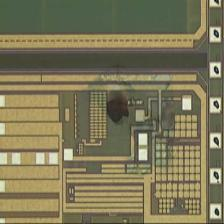PARTICLE: (100, 93, 136, 129)
